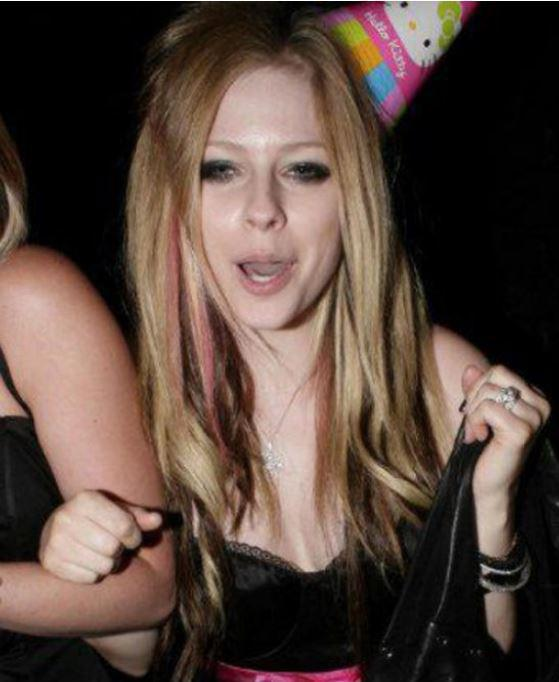Drunk: (189, 66, 343, 326)
